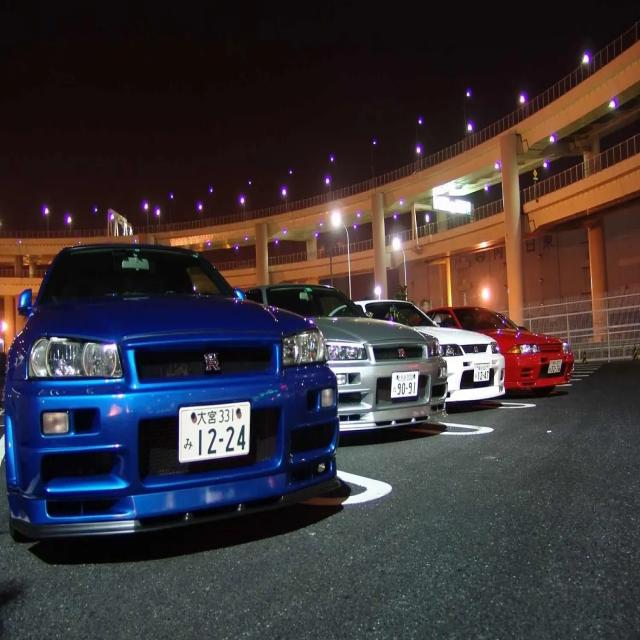number-plates: (177, 400, 251, 466), (389, 369, 420, 402), (472, 362, 492, 385), (546, 357, 562, 378)
